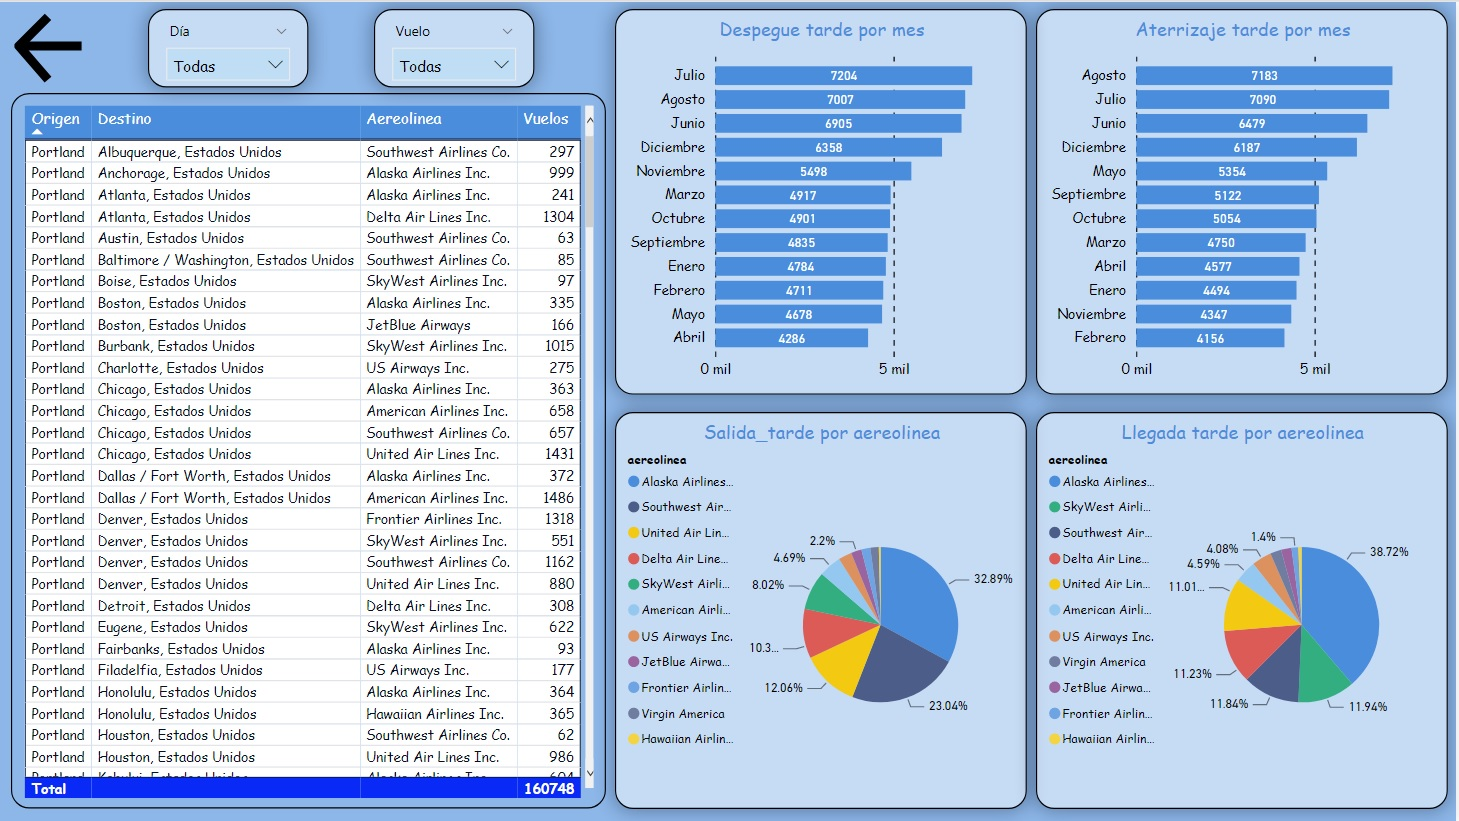

This screenshot's page, from the dashboard's own definition file:
{"tool":"powerbi","page":{"name":"Graficos 2","canvas":[1280,720],"ordinal":3},"visuals":[{"type":"slicer","fields":{"Values":["flights.day"]},"box":[130.1,6,140.9,69.3],"z":0},{"type":"slicer","fields":{"Values":["flights.flight"]},"box":[328.4,6,140.9,69.3],"z":1000},{"type":"tableEx","fields":{"Values":["flights.origin","flights.dest","flights.carrier","flights.year"]},"box":[9.6,80,523,629.3],"z":2000},{"type":"barChart","fields":{"Category":["flights.Months"],"Y":["Sum(flights.llegada_tarde)"]},"box":[911,6,361.8,339.1],"z":3000},{"type":"barChart","fields":{"Category":["flights.Months"],"Y":["Sum(flights.Salida_tarde)"]},"box":[540.9,6,361.8,339.1],"z":4000},{"type":"pieChart","fields":{"Category":["flights.carrier"],"Y":["Sum(flights.Salida_tarde)"]},"box":[540.9,360.6,361.8,348.7],"z":5000},{"type":"pieChart","fields":{"Category":["flights.carrier"],"Y":["Sum(flights.llegada_delay)"]},"box":[911,360.6,361.8,348.7],"z":6000},{"type":"actionButton","box":[9.6,6,69.3,69.3],"z":7000}]}

Visuals, with their boxes in screenshot pixels (x1, y1, x2, y2), scaled from the page's 1280x720 canvas onto the 1459x821 screenshot:
slicer - flights.day: Rect(148, 7, 309, 86)
slicer - flights.flight: Rect(374, 7, 535, 86)
tableEx - flights.origin x flights.dest: Rect(11, 91, 607, 809)
barChart - flights.Months x Sum(flights.llegada_tarde): Rect(1038, 7, 1451, 394)
barChart - flights.Months x Sum(flights.Salida_tarde): Rect(617, 7, 1029, 394)
pieChart - flights.carrier x Sum(flights.Salida_tarde): Rect(617, 411, 1029, 809)
pieChart - flights.carrier x Sum(flights.llegada_delay): Rect(1038, 411, 1451, 809)
actionButton: Rect(11, 7, 90, 86)
